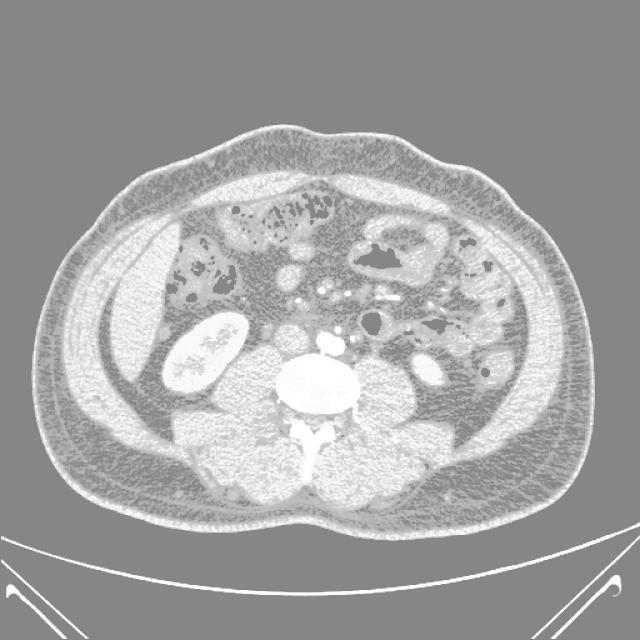NORMAL: (32, 114, 593, 554)
